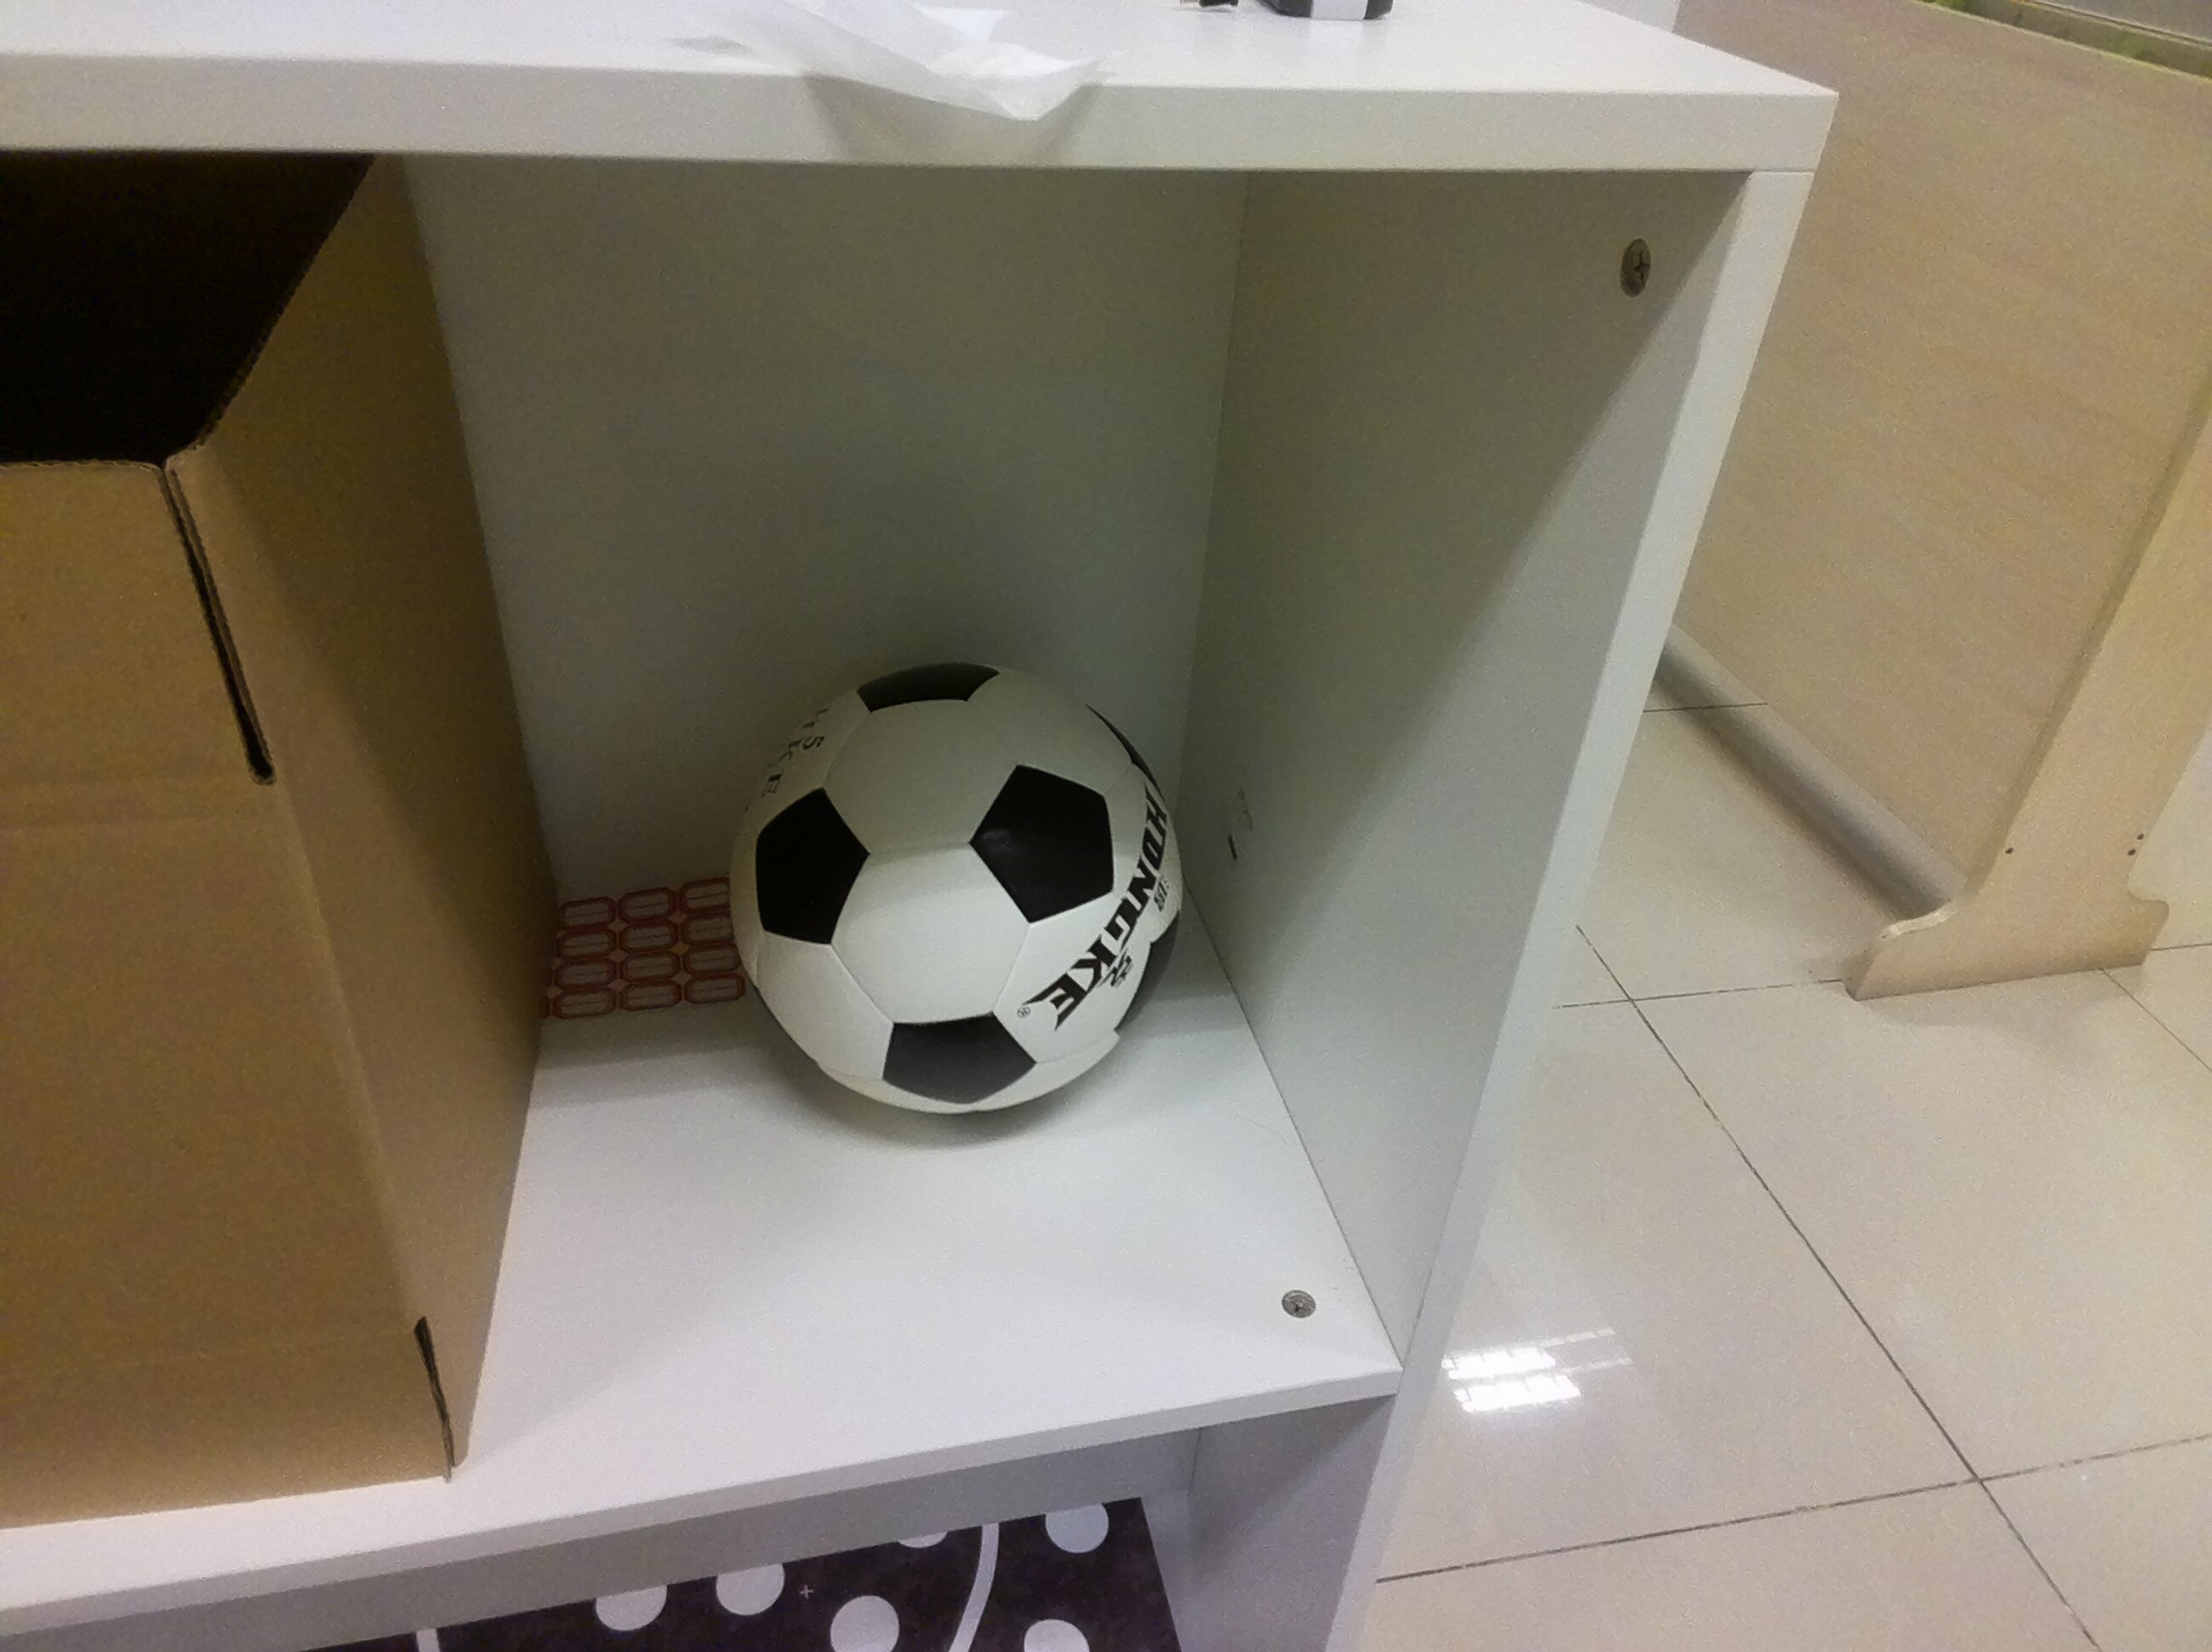football: (718, 637, 1220, 1147)
